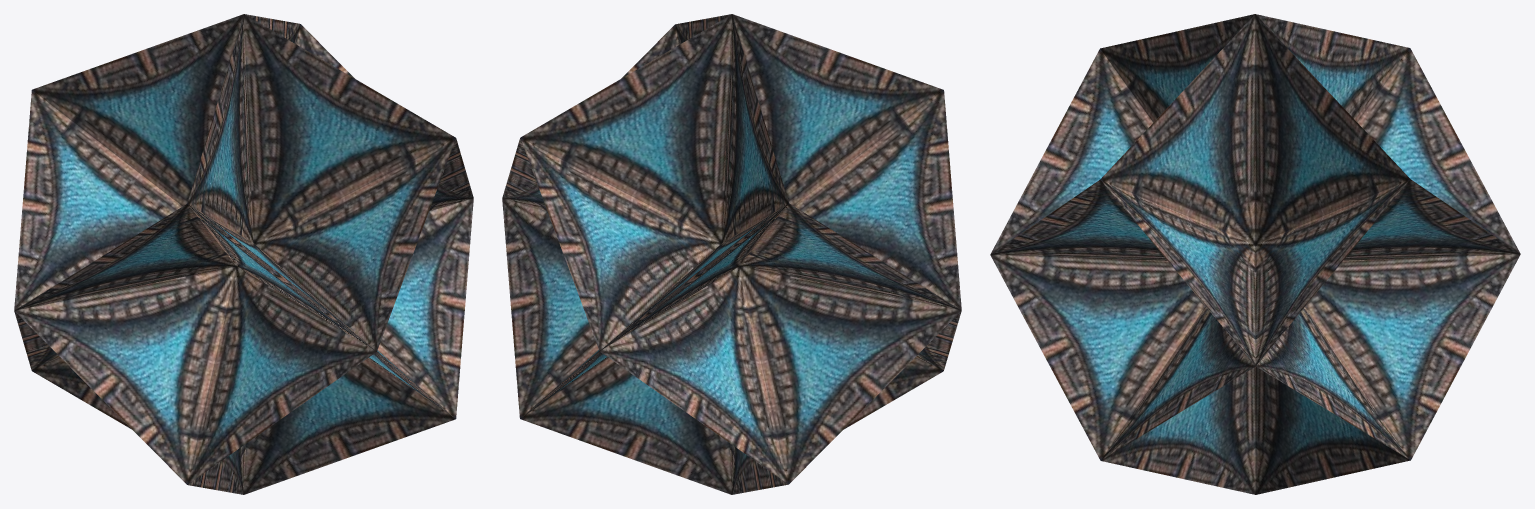
File: Mobius48b_2.obj
3 views of the same model, side by side, from view 1: azimuth 30°, elevation 25°; view 2: azimuth 150°, elevation 25°; view 3: azimuth 270°, elevation 25° (orthographic).
Bounding box in the file's own units: 2.16 × 2.16 × 2.16.
Materials: 1 (1 with a texture image).
